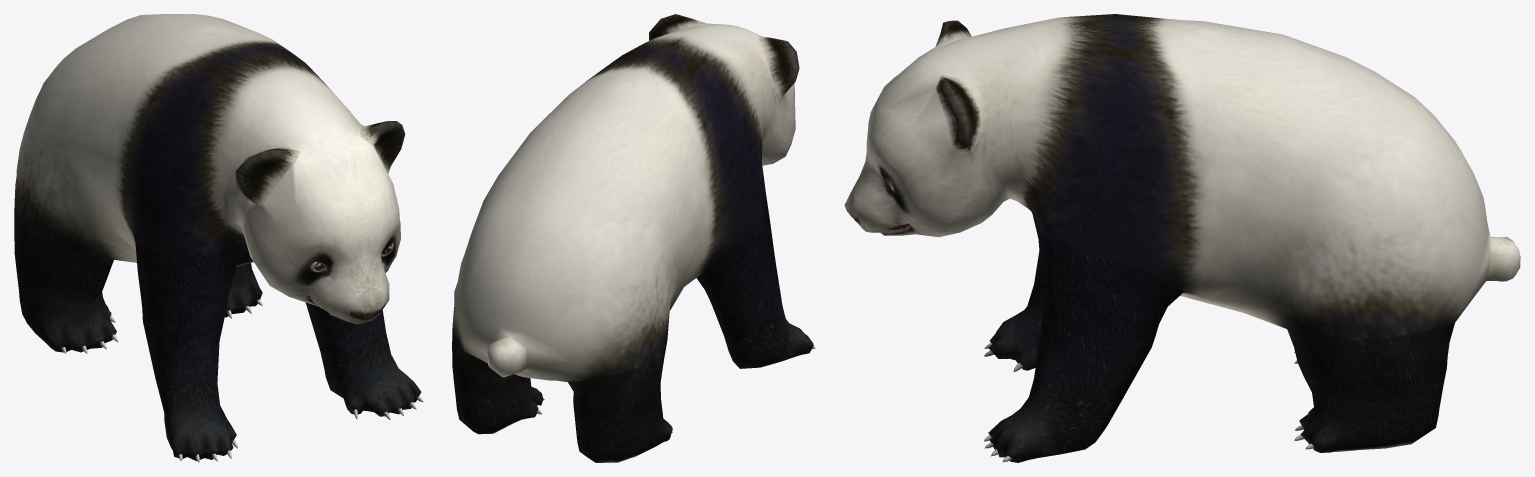
Rendered from panda.glb.
The picture shows the model from 3 angles, left to right: view 1: azimuth 30°, elevation 25°; view 2: azimuth 150°, elevation 25°; view 3: azimuth 270°, elevation 25°; orthographic projection. The views are drawn at different scales.
Parts seen in each view (by area): view 1: d.2; view 2: d.2; view 3: d.2.
Boxes of the visible parts, x1,y1,x2,y2 form: d.2: [14, 14, 423, 462]; d.2: [452, 14, 815, 462]; d.2: [844, 14, 1520, 462].
Bounding box in the file's own units: 59.44 × 80.17 × 129.
1 material, 1 textured.
